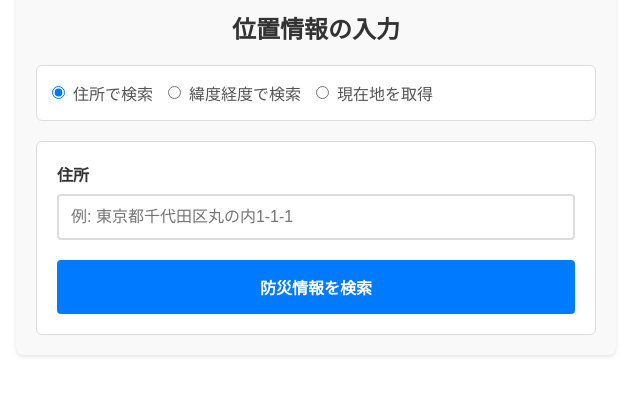
Test: LocationInputComponent › 住所入力のバリデーション › 空の住所でエラーメッセージが表示される
The image size is (633, 399).
Step 1. Clear the field labelled "住所" → (316, 217), box [57,194,575,240]
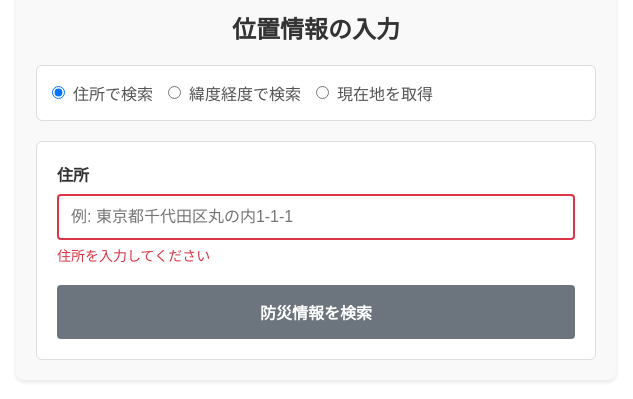
Expected: the text "住所を入力してください" is shown, [57,247,210,264]
